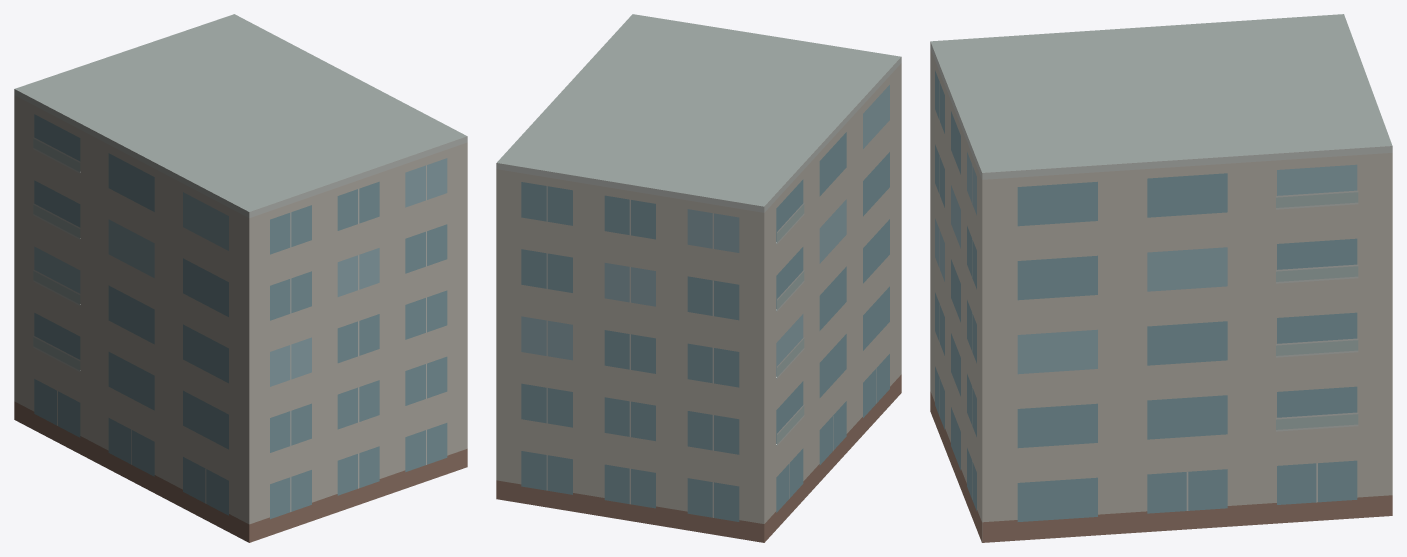
The model's file is survey-upis-32970040.glb.
3 views of the same model, side by side, from view 1: azimuth 30°, elevation 25°; view 2: azimuth 150°, elevation 25°; view 3: azimuth 270°, elevation 25° (orthographic). The views are drawn at different scales.
Parts seen in each view (by area): view 1: survey-upis-32970040.tmp; view 2: survey-upis-32970040.tmp; view 3: survey-upis-32970040.tmp.
Boxes of the visible parts, <box> form: survey-upis-32970040.tmp: <box>14,14,467,542</box>; survey-upis-32970040.tmp: <box>496,14,901,542</box>; survey-upis-32970040.tmp: <box>930,14,1392,542</box>.
Size of the model in its own units: 12.11 by 13.13 by 14.88.
